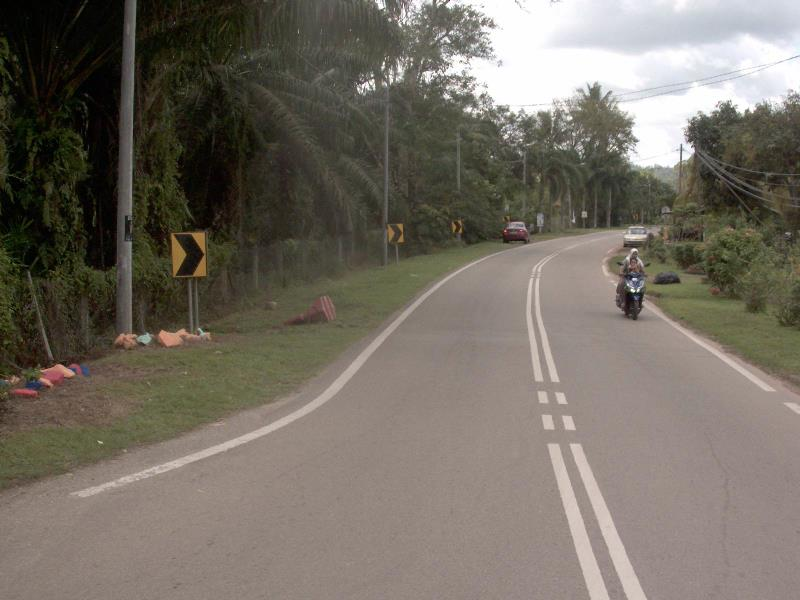traffic_sign: (163, 221, 215, 288)
